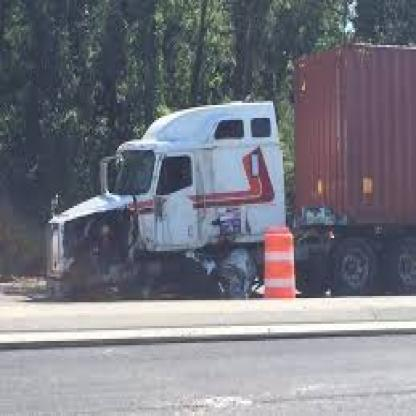accident: (40, 46, 416, 312)
